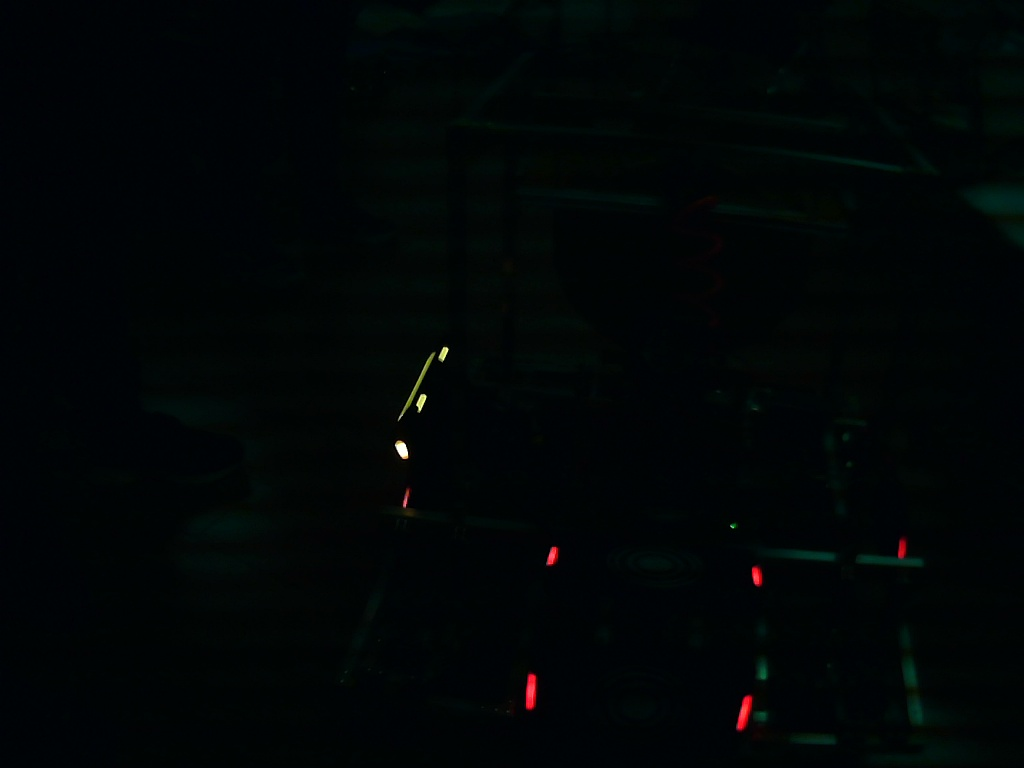lamp: (522, 668, 542, 713), (737, 692, 752, 733)
